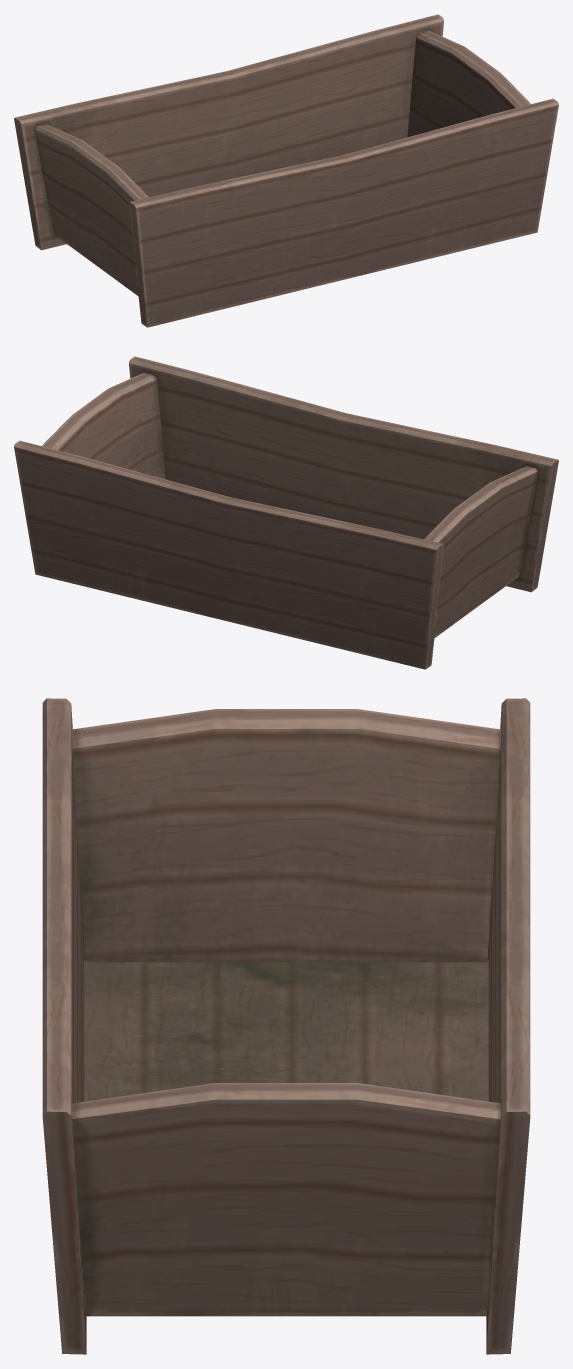
3 views of the same model, one above another, from view 1: azimuth 30°, elevation 25°; view 2: azimuth 150°, elevation 25°; view 3: azimuth 270°, elevation 25° (orthographic). The views are drawn at different scales.
Parts seen in each view (by area): view 1: submesh_0; view 2: submesh_0; view 3: submesh_0.
Part boxes in pixels (x1=…): submesh_0: x1=14, y1=14, x2=558, y2=327; submesh_0: x1=14, y1=356, x2=558, y2=669; submesh_0: x1=42, y1=698, x2=530, y2=1354.
Bounding box in the file's own units: 1.54 × 0.4571 × 0.7667.
Materials: 1 (1 with a texture image).
